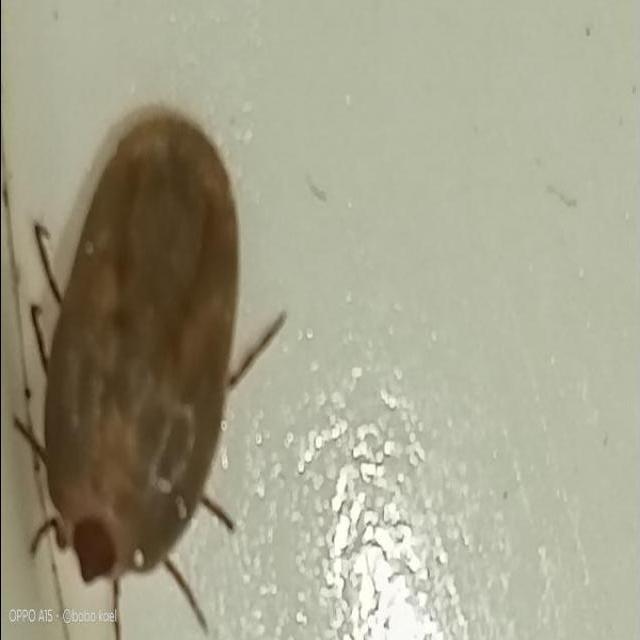Rhipicephalus Sanguineus-F-Fed: (13, 106, 289, 640)
